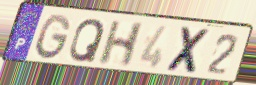2: (204, 33, 239, 76)
4: (136, 25, 169, 72)
G: (34, 13, 73, 62)
H: (95, 20, 147, 69)
Q: (67, 17, 107, 64)
X: (164, 25, 213, 77)
